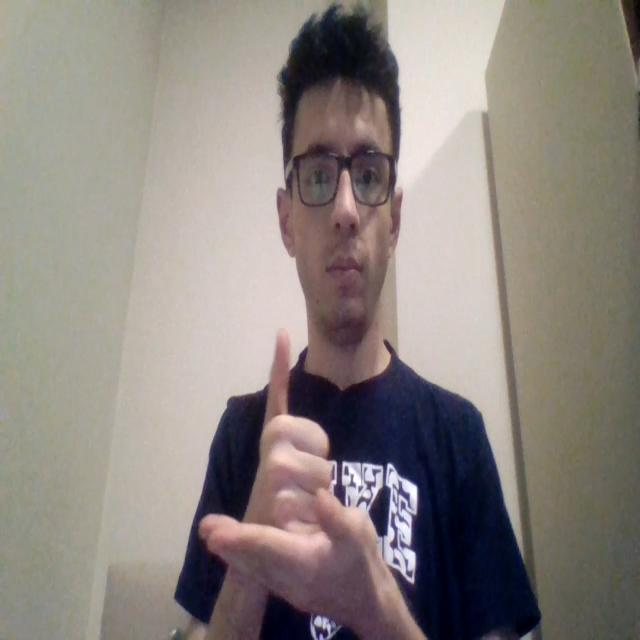help: (198, 332, 394, 618)
